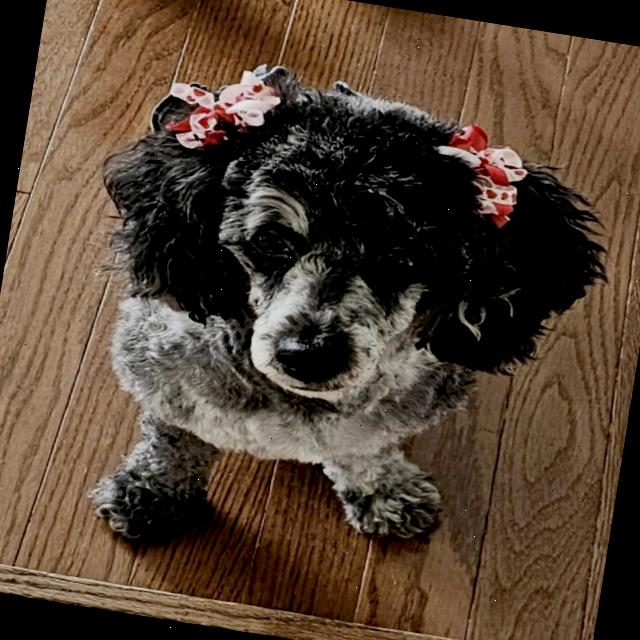Poodle_dog: (64, 35, 636, 458)
